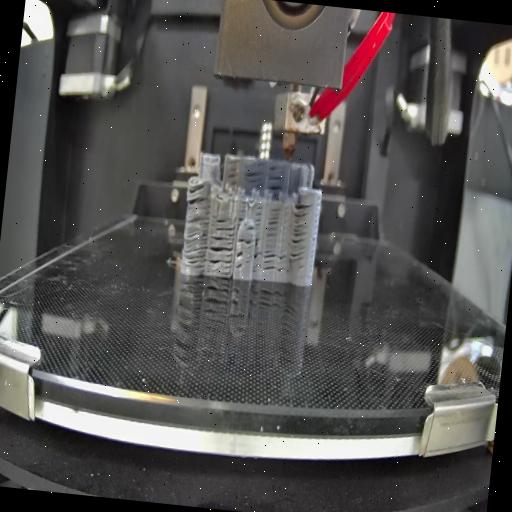cracks: (182, 210, 211, 268), (288, 202, 312, 270), (208, 234, 234, 270), (242, 163, 266, 190), (266, 163, 286, 194), (184, 182, 208, 206), (266, 208, 282, 240), (226, 162, 241, 190), (213, 218, 236, 236), (261, 250, 278, 274), (252, 235, 262, 273), (277, 252, 289, 276), (234, 248, 244, 272), (254, 207, 264, 226), (238, 236, 254, 246), (238, 204, 246, 223), (244, 223, 256, 232)
